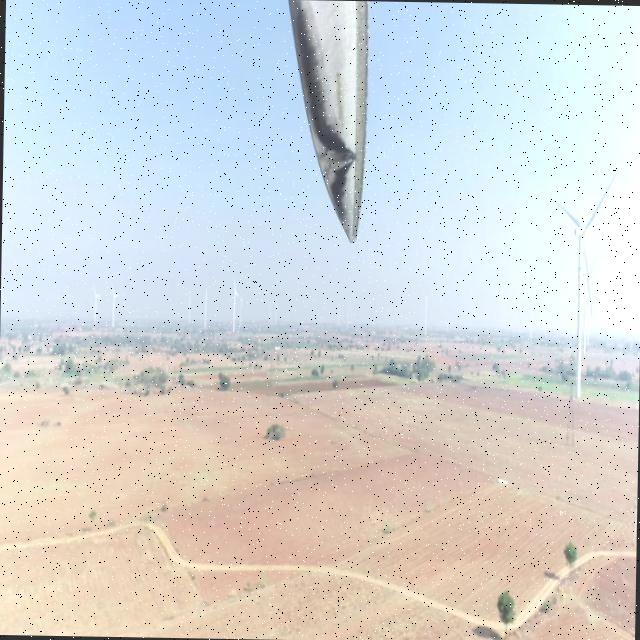Dirt: (290, 0, 370, 243)
Oil LEAKAGE: (287, 1, 357, 218)
Pin Hole: (348, 152, 358, 166)
